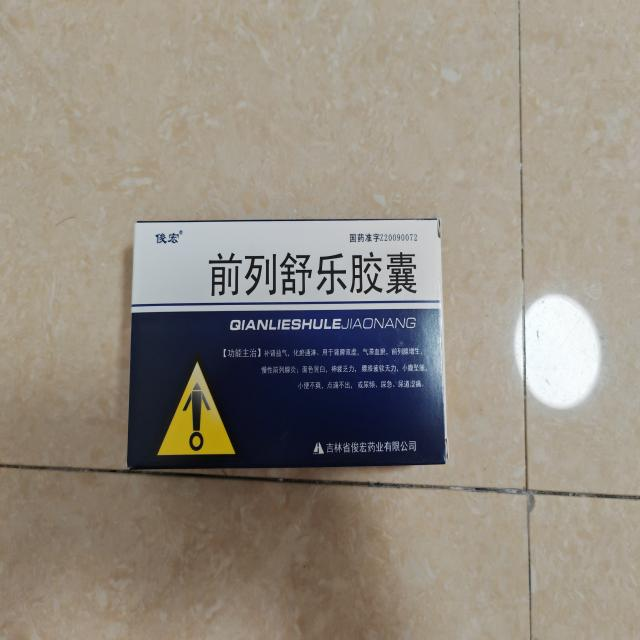box: (120, 207, 456, 478)
